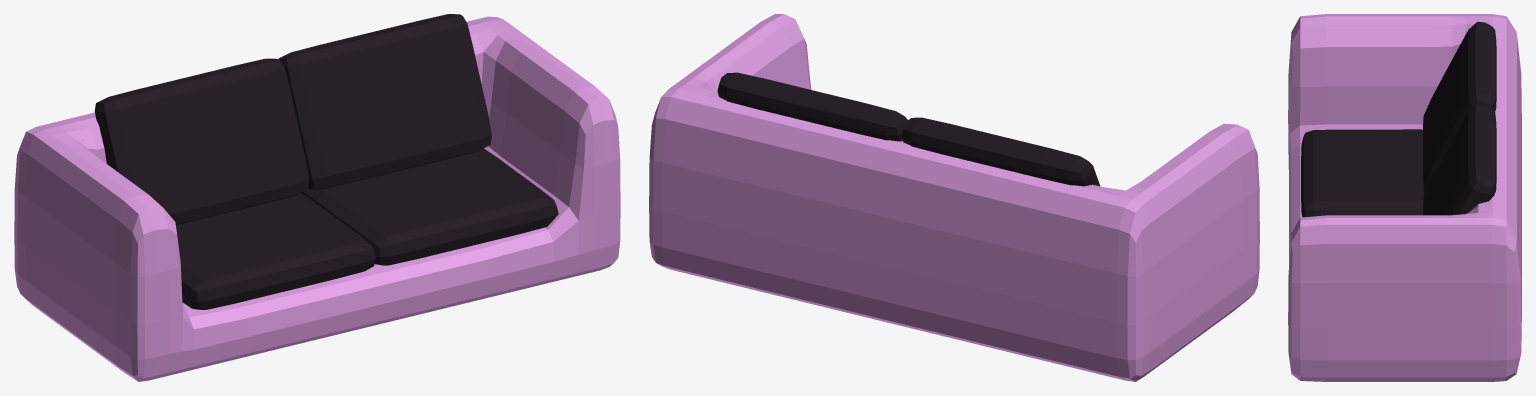
File: Couch 2.fbx
3 views of the same model, side by side, from view 1: azimuth 30°, elevation 25°; view 2: azimuth 150°, elevation 25°; view 3: azimuth 270°, elevation 25° (orthographic). The views are drawn at different scales.
Parts seen in each view (by area): view 1: Cube.034, Cube.038, Cube.039, Cube.037, Cube.036; view 2: Cube.034, Cube.039, Cube.038; view 3: Cube.034, Cube.036, Cube.039, Cube.038, Cube.037.
Boxes of the visible parts, x1=… form: Cube.034: x1=14, y1=16, x2=620, y2=381; Cube.038: x1=278, y1=14, x2=491, y2=190; Cube.039: x1=94, y1=58, x2=308, y2=225; Cube.037: x1=301, y1=148, x2=558, y2=265; Cube.036: x1=176, y1=193, x2=375, y2=309; Cube.034: x1=649, y1=14, x2=1259, y2=381; Cube.039: x1=901, y1=117, x2=1100, y2=186; Cube.038: x1=717, y1=72, x2=907, y2=141; Cube.034: x1=1288, y1=14, x2=1521, y2=381; Cube.036: x1=1301, y1=129, x2=1423, y2=217; Cube.039: x1=1423, y1=21, x2=1496, y2=195; Cube.038: x1=1423, y1=103, x2=1496, y2=215; Cube.037: x1=1304, y1=211, x2=1422, y2=217.
Size of the model in its own units: 524 by 202 by 237.
